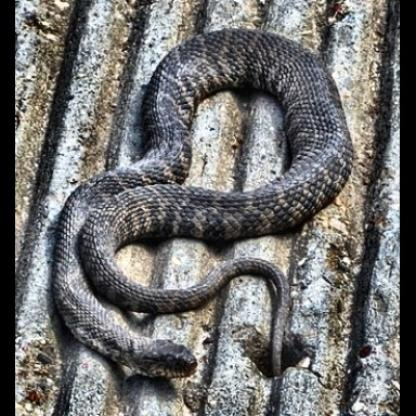Snake: (50, 10, 375, 413)
